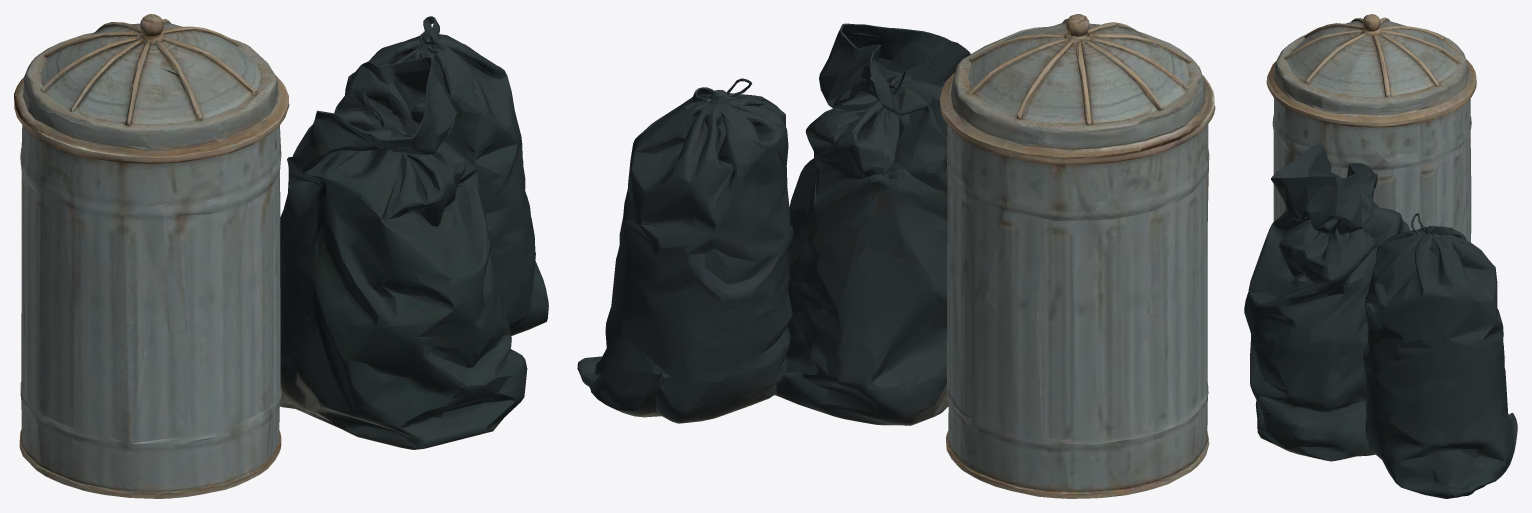
The model's file is trash.glb.
3 views of the same model, side by side, from view 1: azimuth 30°, elevation 25°; view 2: azimuth 150°, elevation 25°; view 3: azimuth 270°, elevation 25° (orthographic). The views are drawn at different scales.
Size of the model in its own units: 1.9 by 1.38 by 1.05.
1 material, 1 textured.
